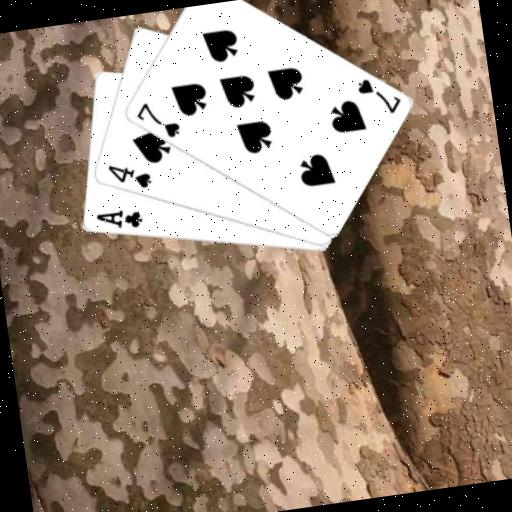4S: (104, 157, 154, 195)
7S: (131, 96, 183, 145), (353, 71, 405, 120)
AC: (92, 205, 145, 236)
